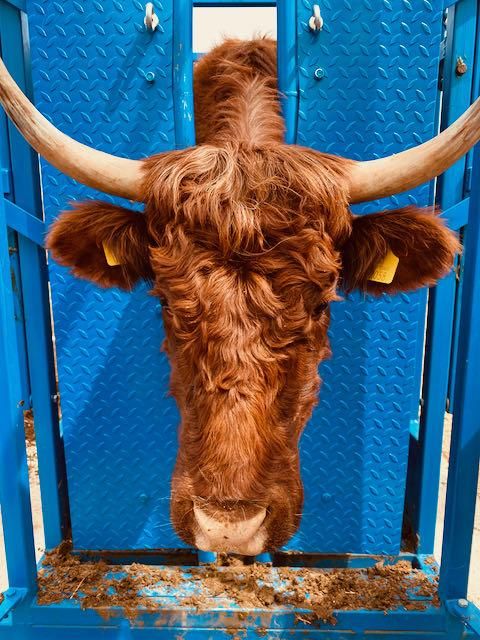muzzles: (161, 488, 299, 563)
